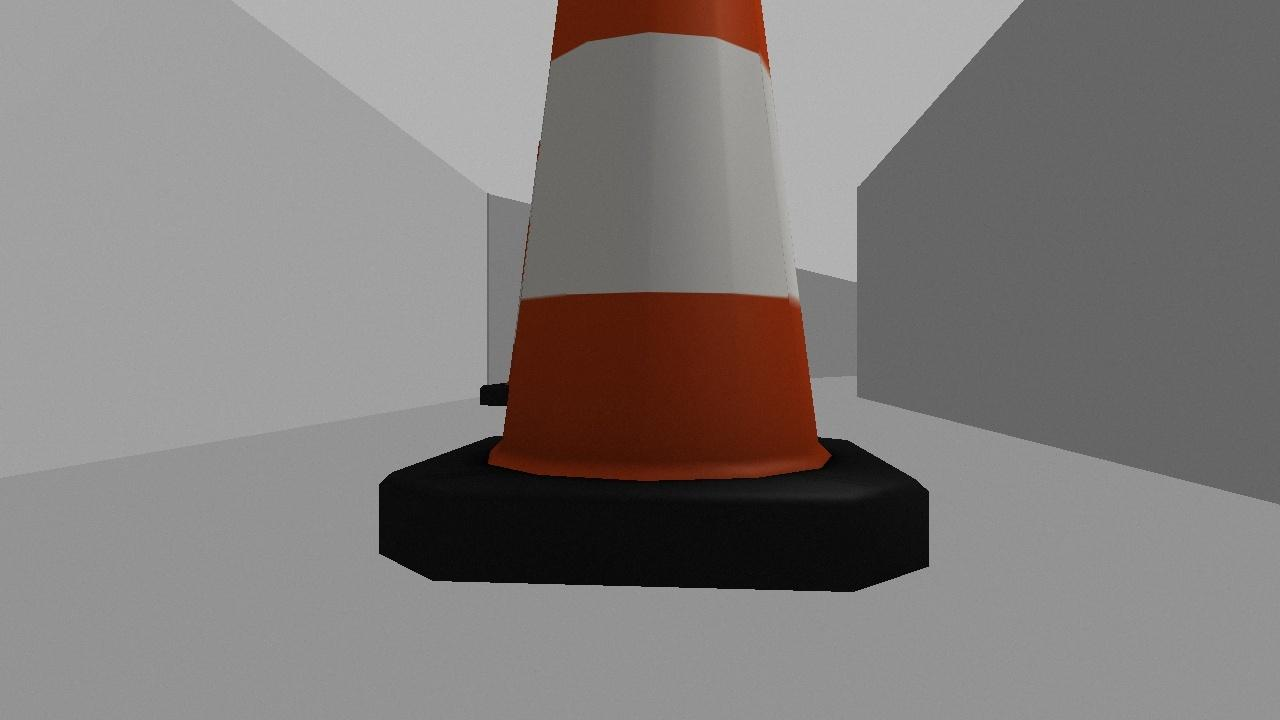cone_barrel: (338, 0, 950, 610)
